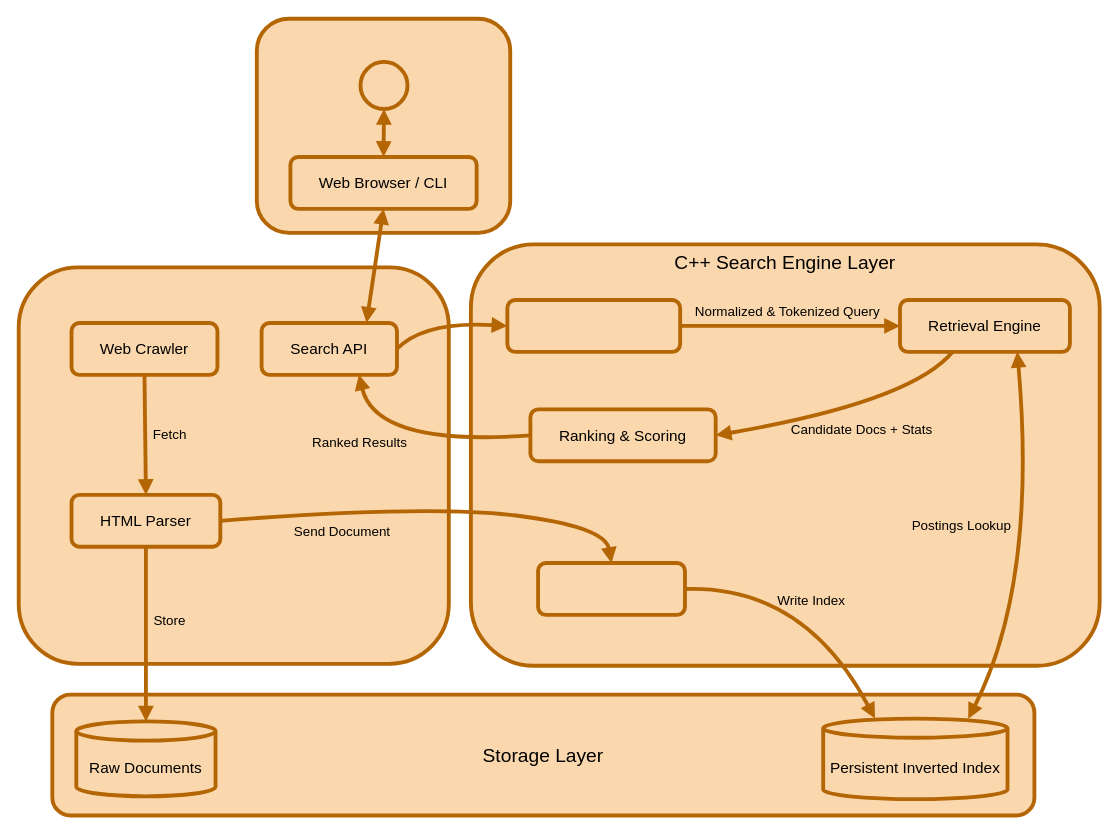
Image size: 1117x833. Some labels were removed from this diagram. The shapes that lost their labels are listed below. From the top down, each one's box as (x1, y1, x2, y2) in pixels, then its label:
(358, 60, 409, 110): User
(254, 16, 512, 234): Client Layer
(505, 298, 682, 353): Query Processor
(16, 265, 450, 665): Go Service Layer
(536, 561, 686, 616): Index Builder
